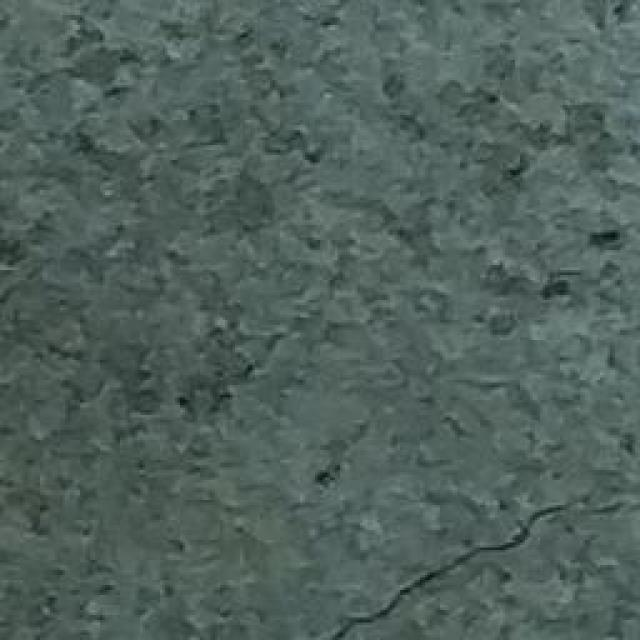Diagonal: (315, 498, 640, 640)
